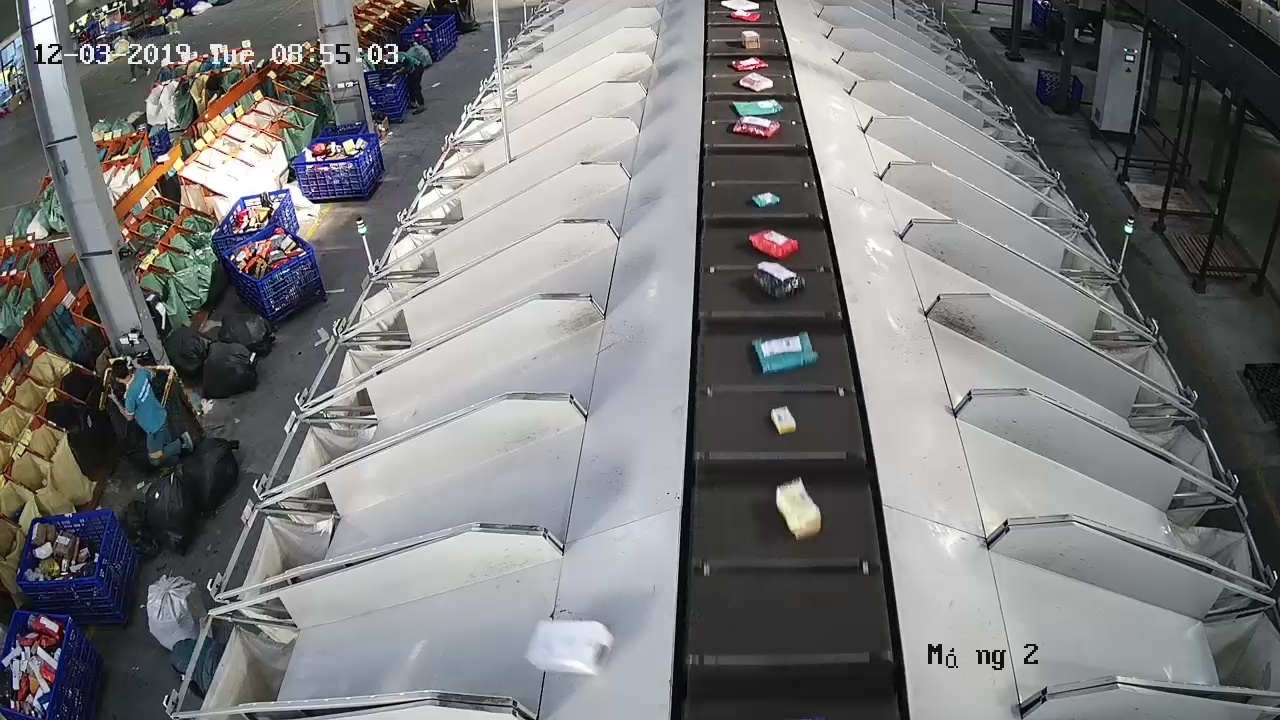parcel: (525, 618, 615, 677), (774, 476, 822, 542), (751, 330, 819, 376), (751, 259, 806, 300), (747, 228, 799, 258), (731, 115, 781, 139), (769, 404, 797, 437), (751, 190, 781, 209)
